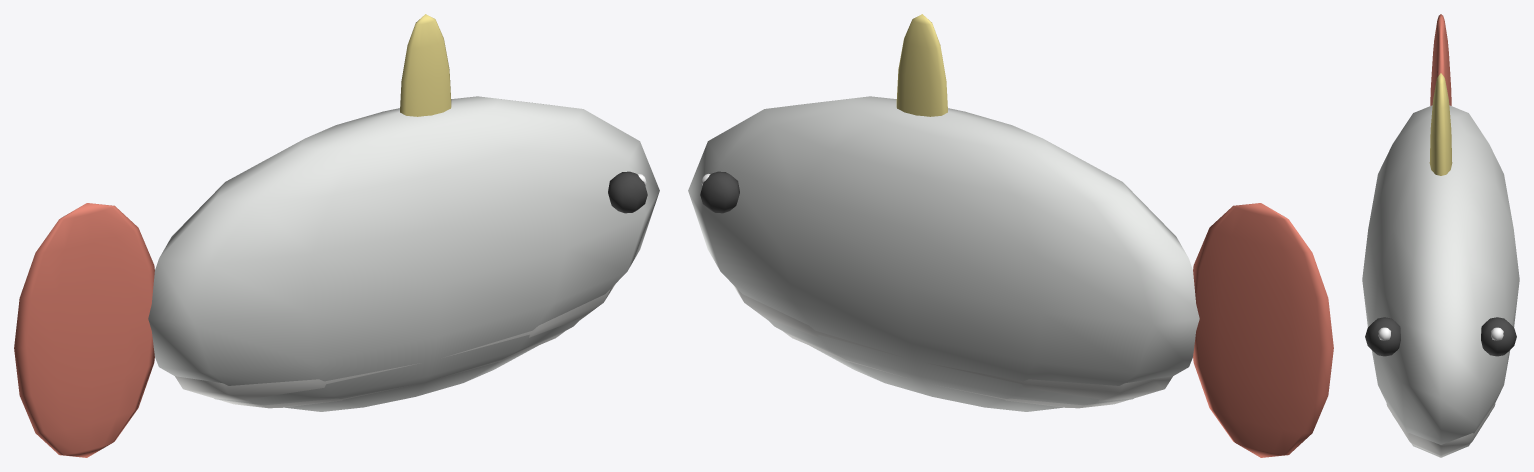
The model's file is yellowfin-chalceus.glb.
3 renders of one model, left to right at view 1: azimuth 30°, elevation 25°; view 2: azimuth 150°, elevation 25°; view 3: azimuth 270°, elevation 25°, orthographic. The views are drawn at different scales.
Parts seen in each view (by area): view 1: e, e.003; view 2: e, e.003; view 3: e, e.003.
Part boxes in pixels (x1,y1,x2,y2): e: (148, 14, 659, 411); e.003: (14, 203, 154, 457); e: (688, 14, 1199, 411); e.003: (1193, 203, 1333, 457); e: (1362, 73, 1519, 457); e.003: (1430, 14, 1451, 105).
Bounding box in the file's own units: 0.558 × 0.3101 × 0.126.
